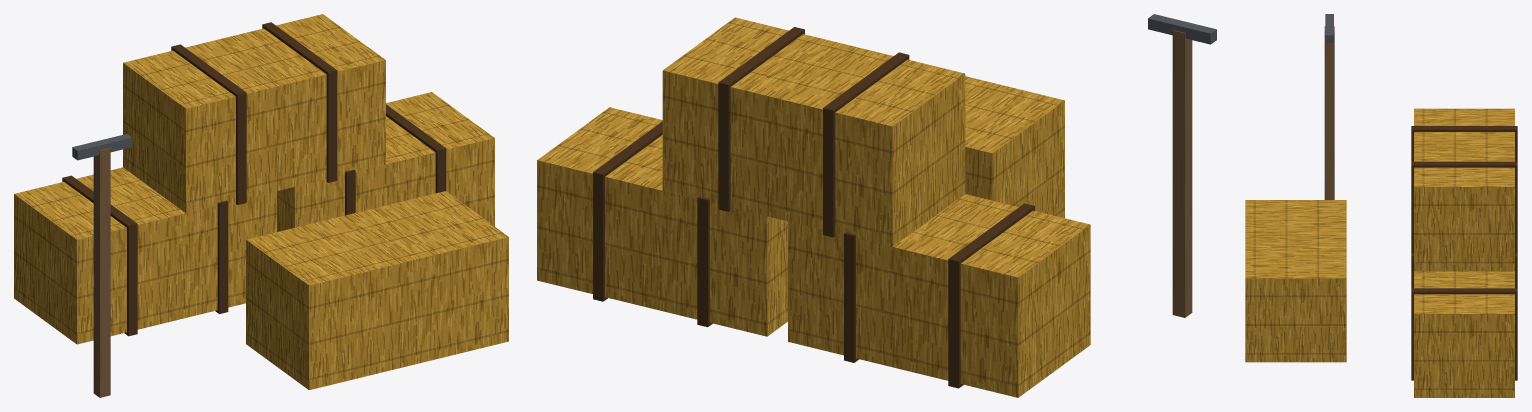
Rendered from haybales.glb.
3 views of the same model, side by side, from view 1: azimuth 30°, elevation 25°; view 2: azimuth 150°, elevation 25°; view 3: azimuth 270°, elevation 25° (orthographic). The views are drawn at different scales.
Visible parts, largest first — view 1: haybales; view 2: haybales; view 3: haybales.
Boxes of the visible parts, x1,y1,x2,y2 form: haybales: (14, 14, 508, 397); haybales: (537, 14, 1216, 397); haybales: (1245, 14, 1517, 397).
Size of the model in its own units: 2.6 by 1.33 by 1.61.
4 materials, 2 textured.
